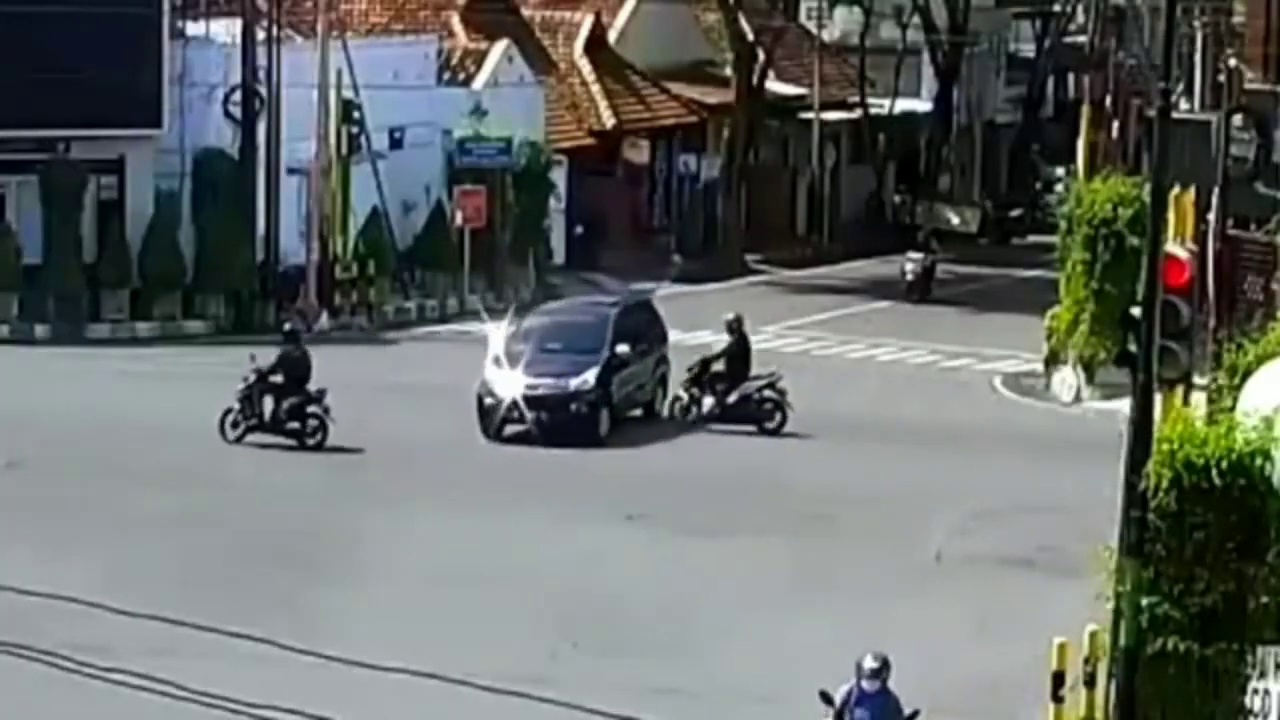car: (476, 291, 674, 449)
motorbike: (225, 325, 339, 452), (675, 313, 784, 439), (901, 219, 935, 302)
